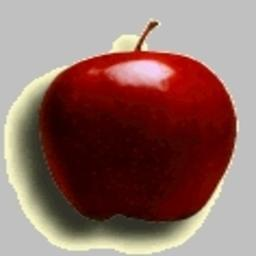apple: (29, 27, 237, 222)
